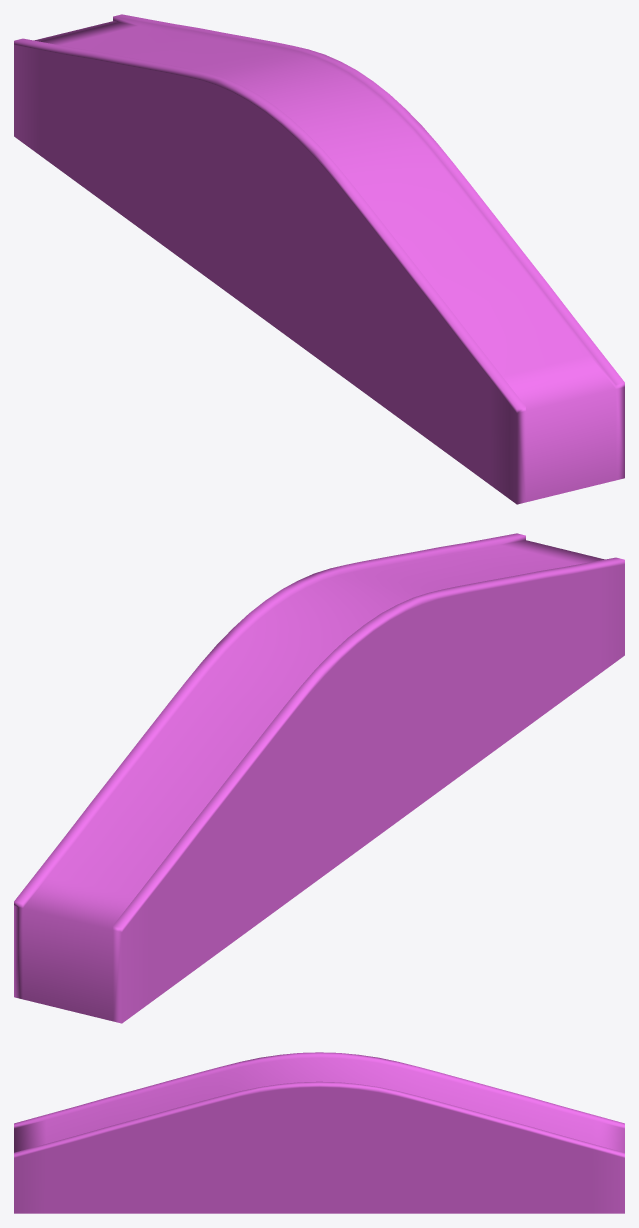
The model's file is RD_Hump_Tall1.fbx.
The picture shows the model from 3 angles, top to bottom: view 1: azimuth 30°, elevation 25°; view 2: azimuth 150°, elevation 25°; view 3: azimuth 270°, elevation 25°; orthographic projection. The views are drawn at different scales.
Visible parts, largest first — view 1: Mesh; view 2: Mesh; view 3: Mesh.
Part boxes in pixels (<box>): Mesh: <box>14,14,624,504</box>; Mesh: <box>14,533,624,1023</box>; Mesh: <box>14,1052,624,1213</box>.
Size of the model in its own units: 480 by 903 by 3871.
